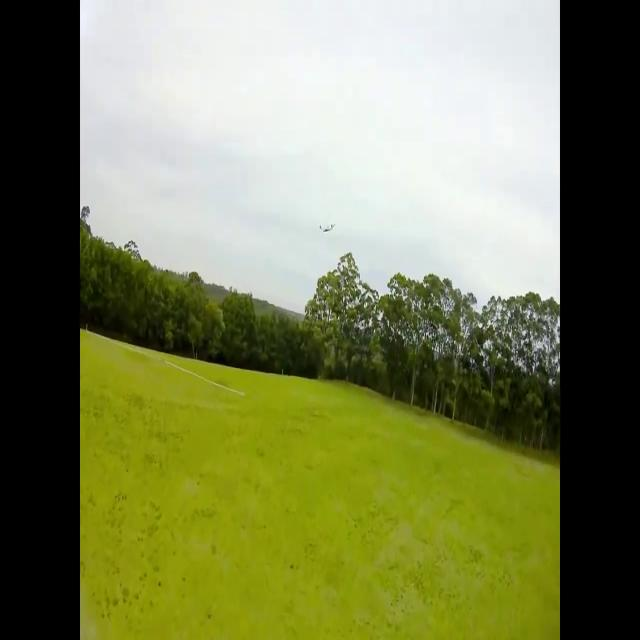iha: (312, 225, 329, 230)
